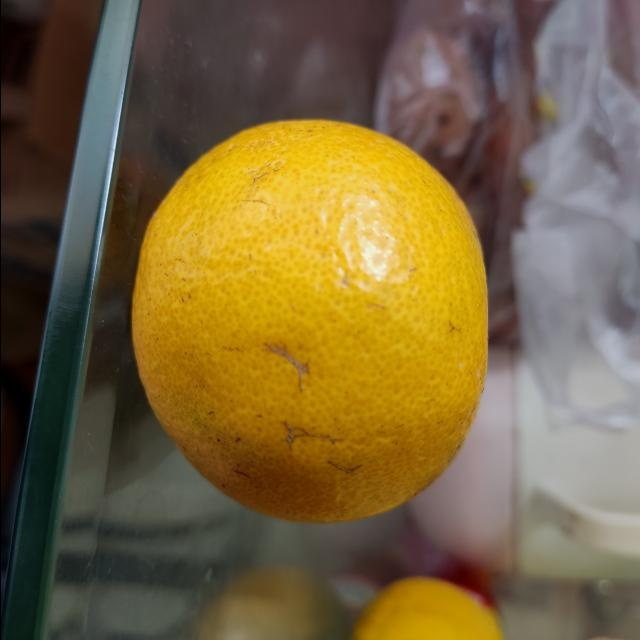agrume: (127, 110, 493, 530)
